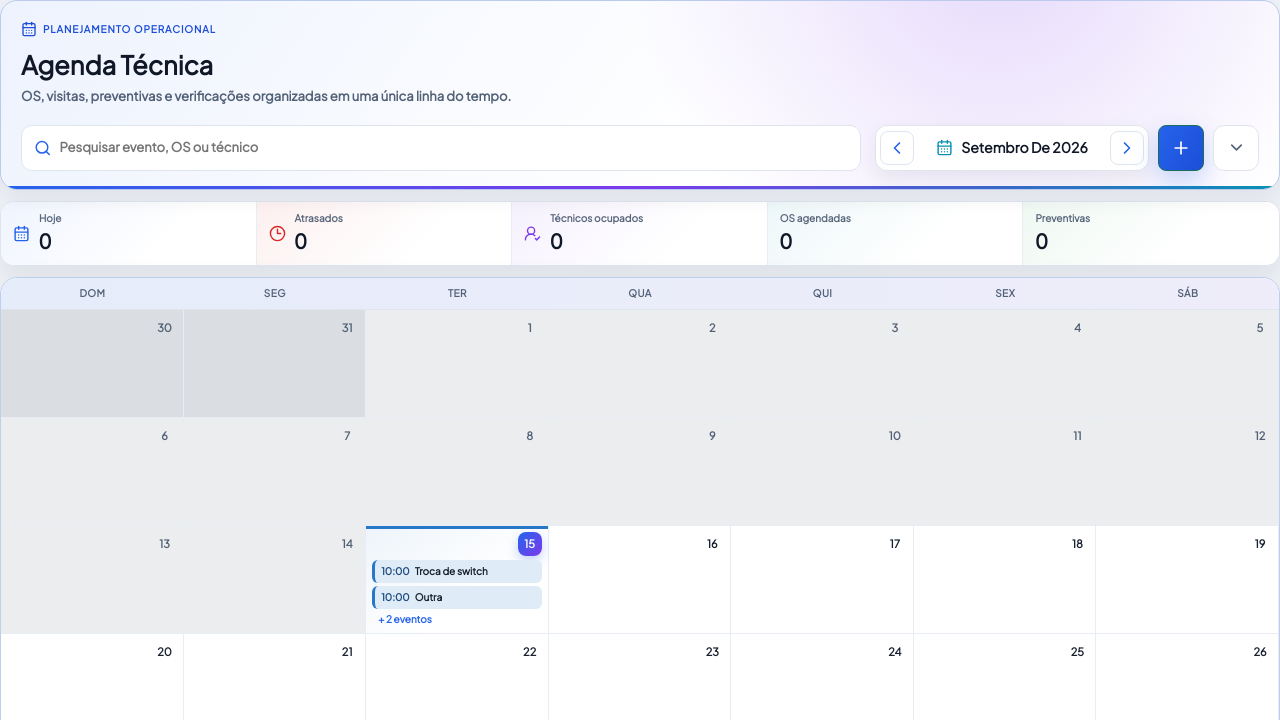
Test: TechnicalCalendarPage (fluxos) › pesquisa localmente por título, descrição, OS e técnico sem recarregar
Expected: the text "Troca de switch" is shown, [415,565,488,577]
In the field with placeholder "Pesquisar evento, OS ou técnico": (454, 148) [59,127,848,169], type "  CABEAMENTO "
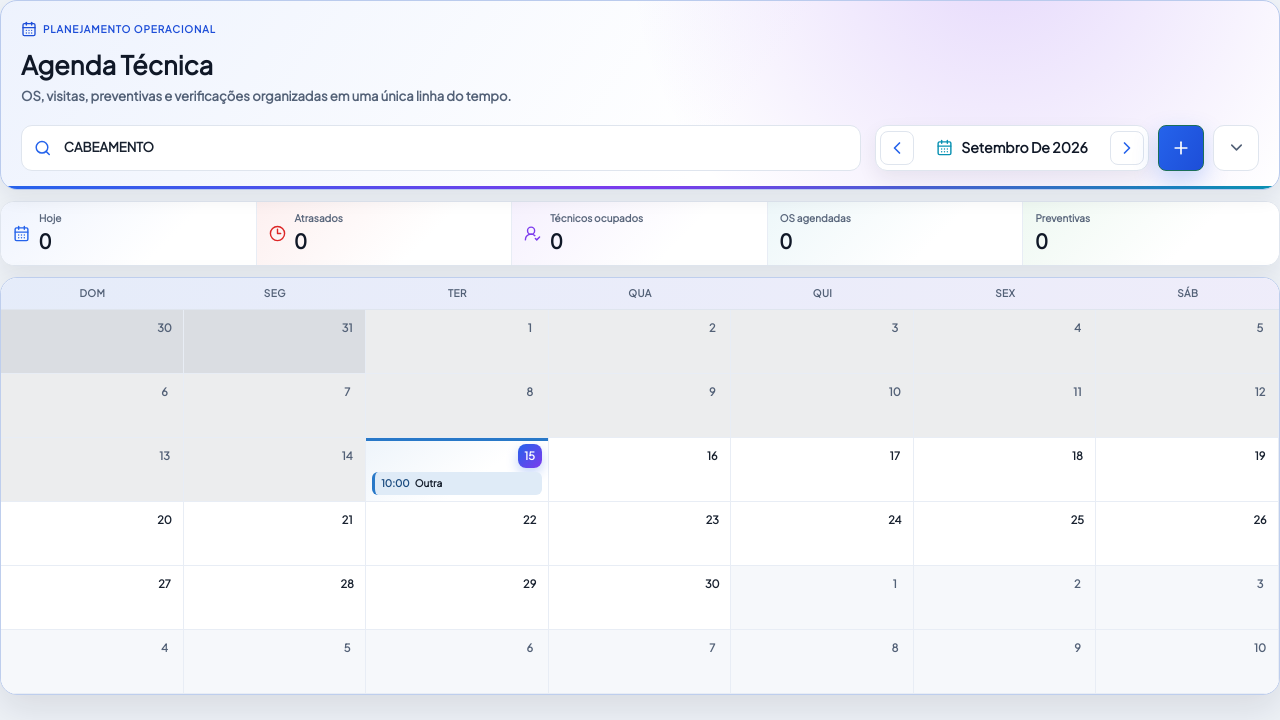
Expected: the text "Outra" is shown, [415,477,442,489]
Result: the button "Troca de switch" is gone
Replace the text in the field with placeholder "Pesquisar evento, OS ou técnico" with "os-77": (454, 148) [59,127,848,169]
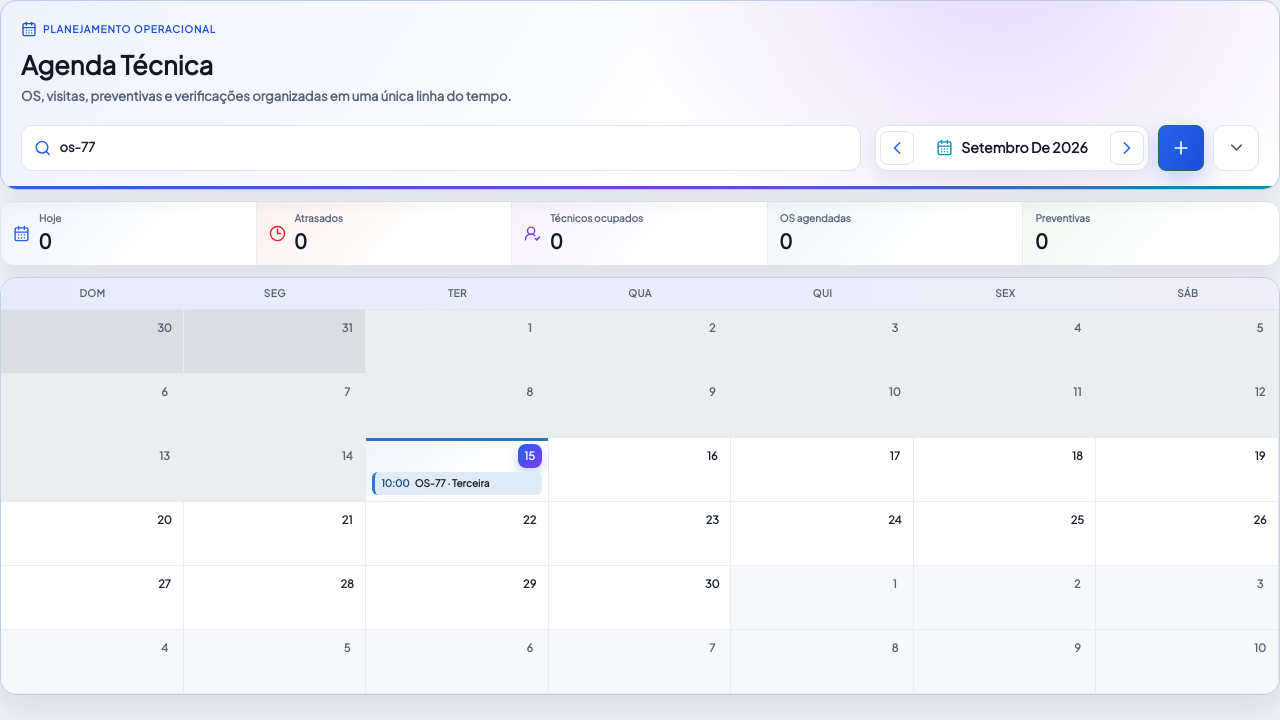
Result: the text "OS-77 · Terceira" is shown at [415,477,490,489]
Replace the text in the field with placeholder "Pesquisar evento, OS ou técnico" with "beatriz": (454, 148) [59,127,848,169]
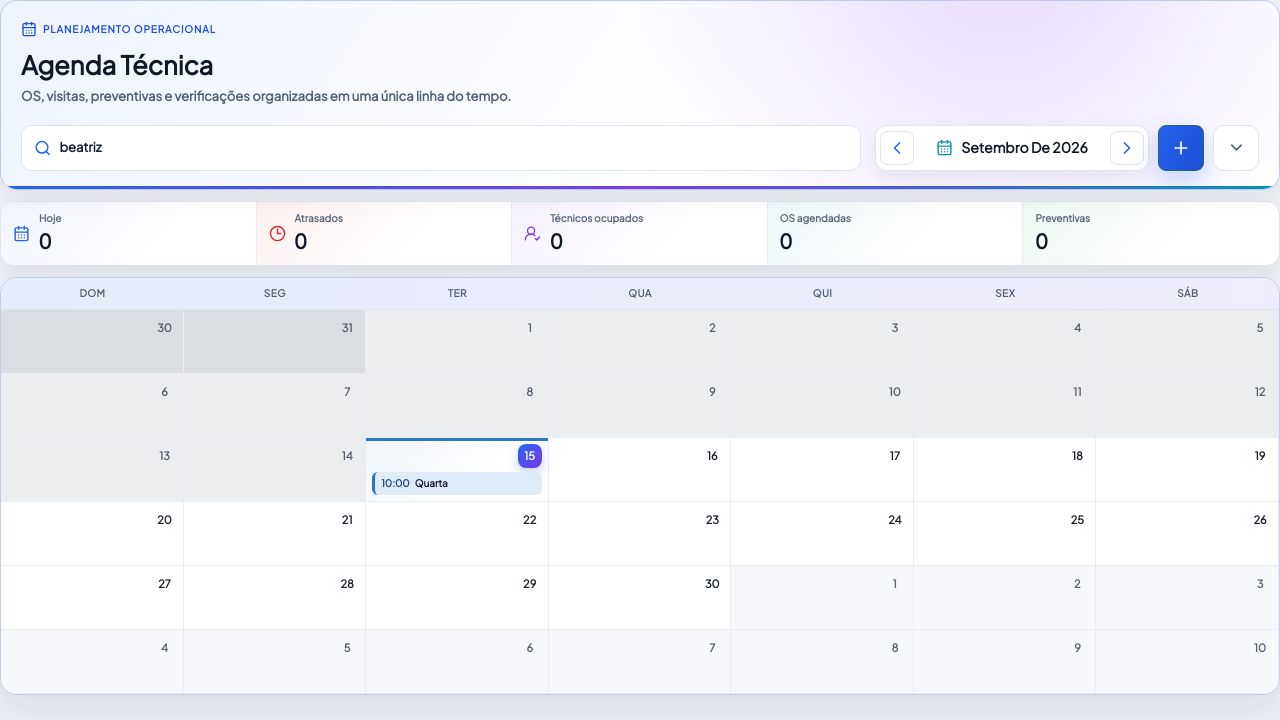
Result: the text "Quarta" is shown at [415,477,448,489]
Replace the text in the field with placeholder "Pesquisar evento, OS ou técnico" with "zzz": (454, 148) [59,127,848,169]
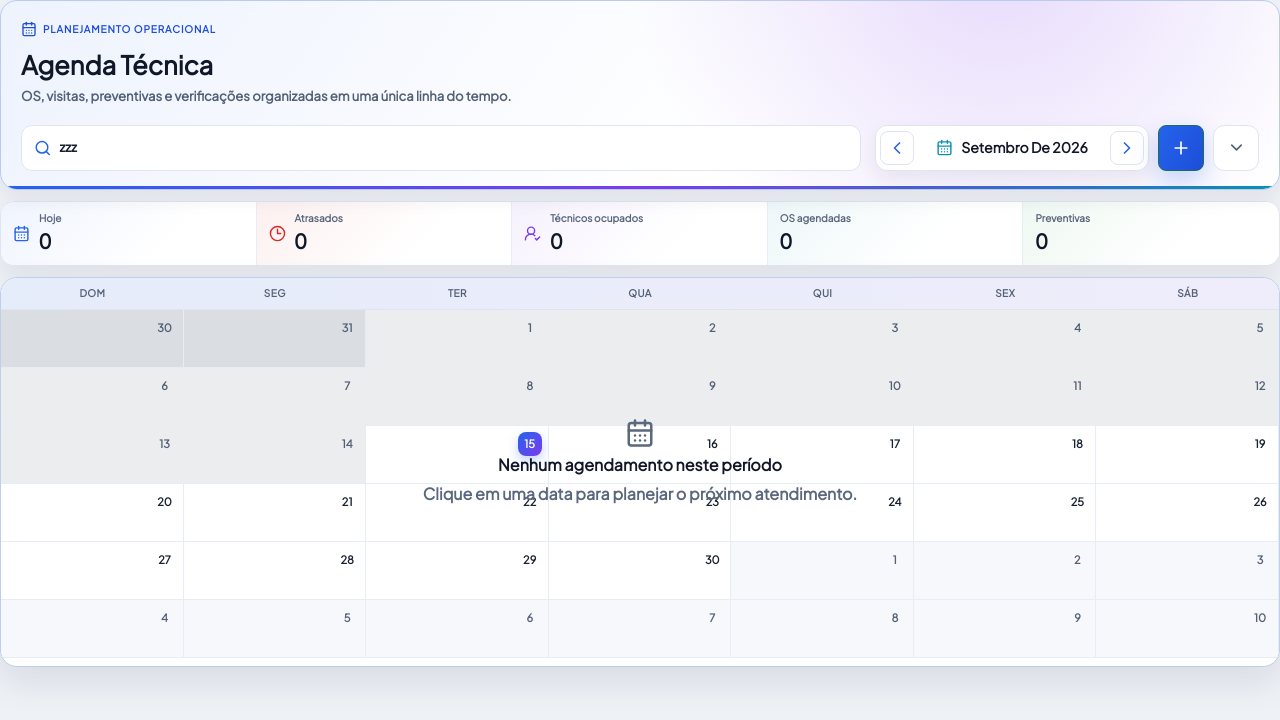
Expected: the button named "Mostrar filtros" is empty, [1213,125,1259,171]
Result: the text "Nenhum agendamento neste período" is shown at [498,453,782,477]
